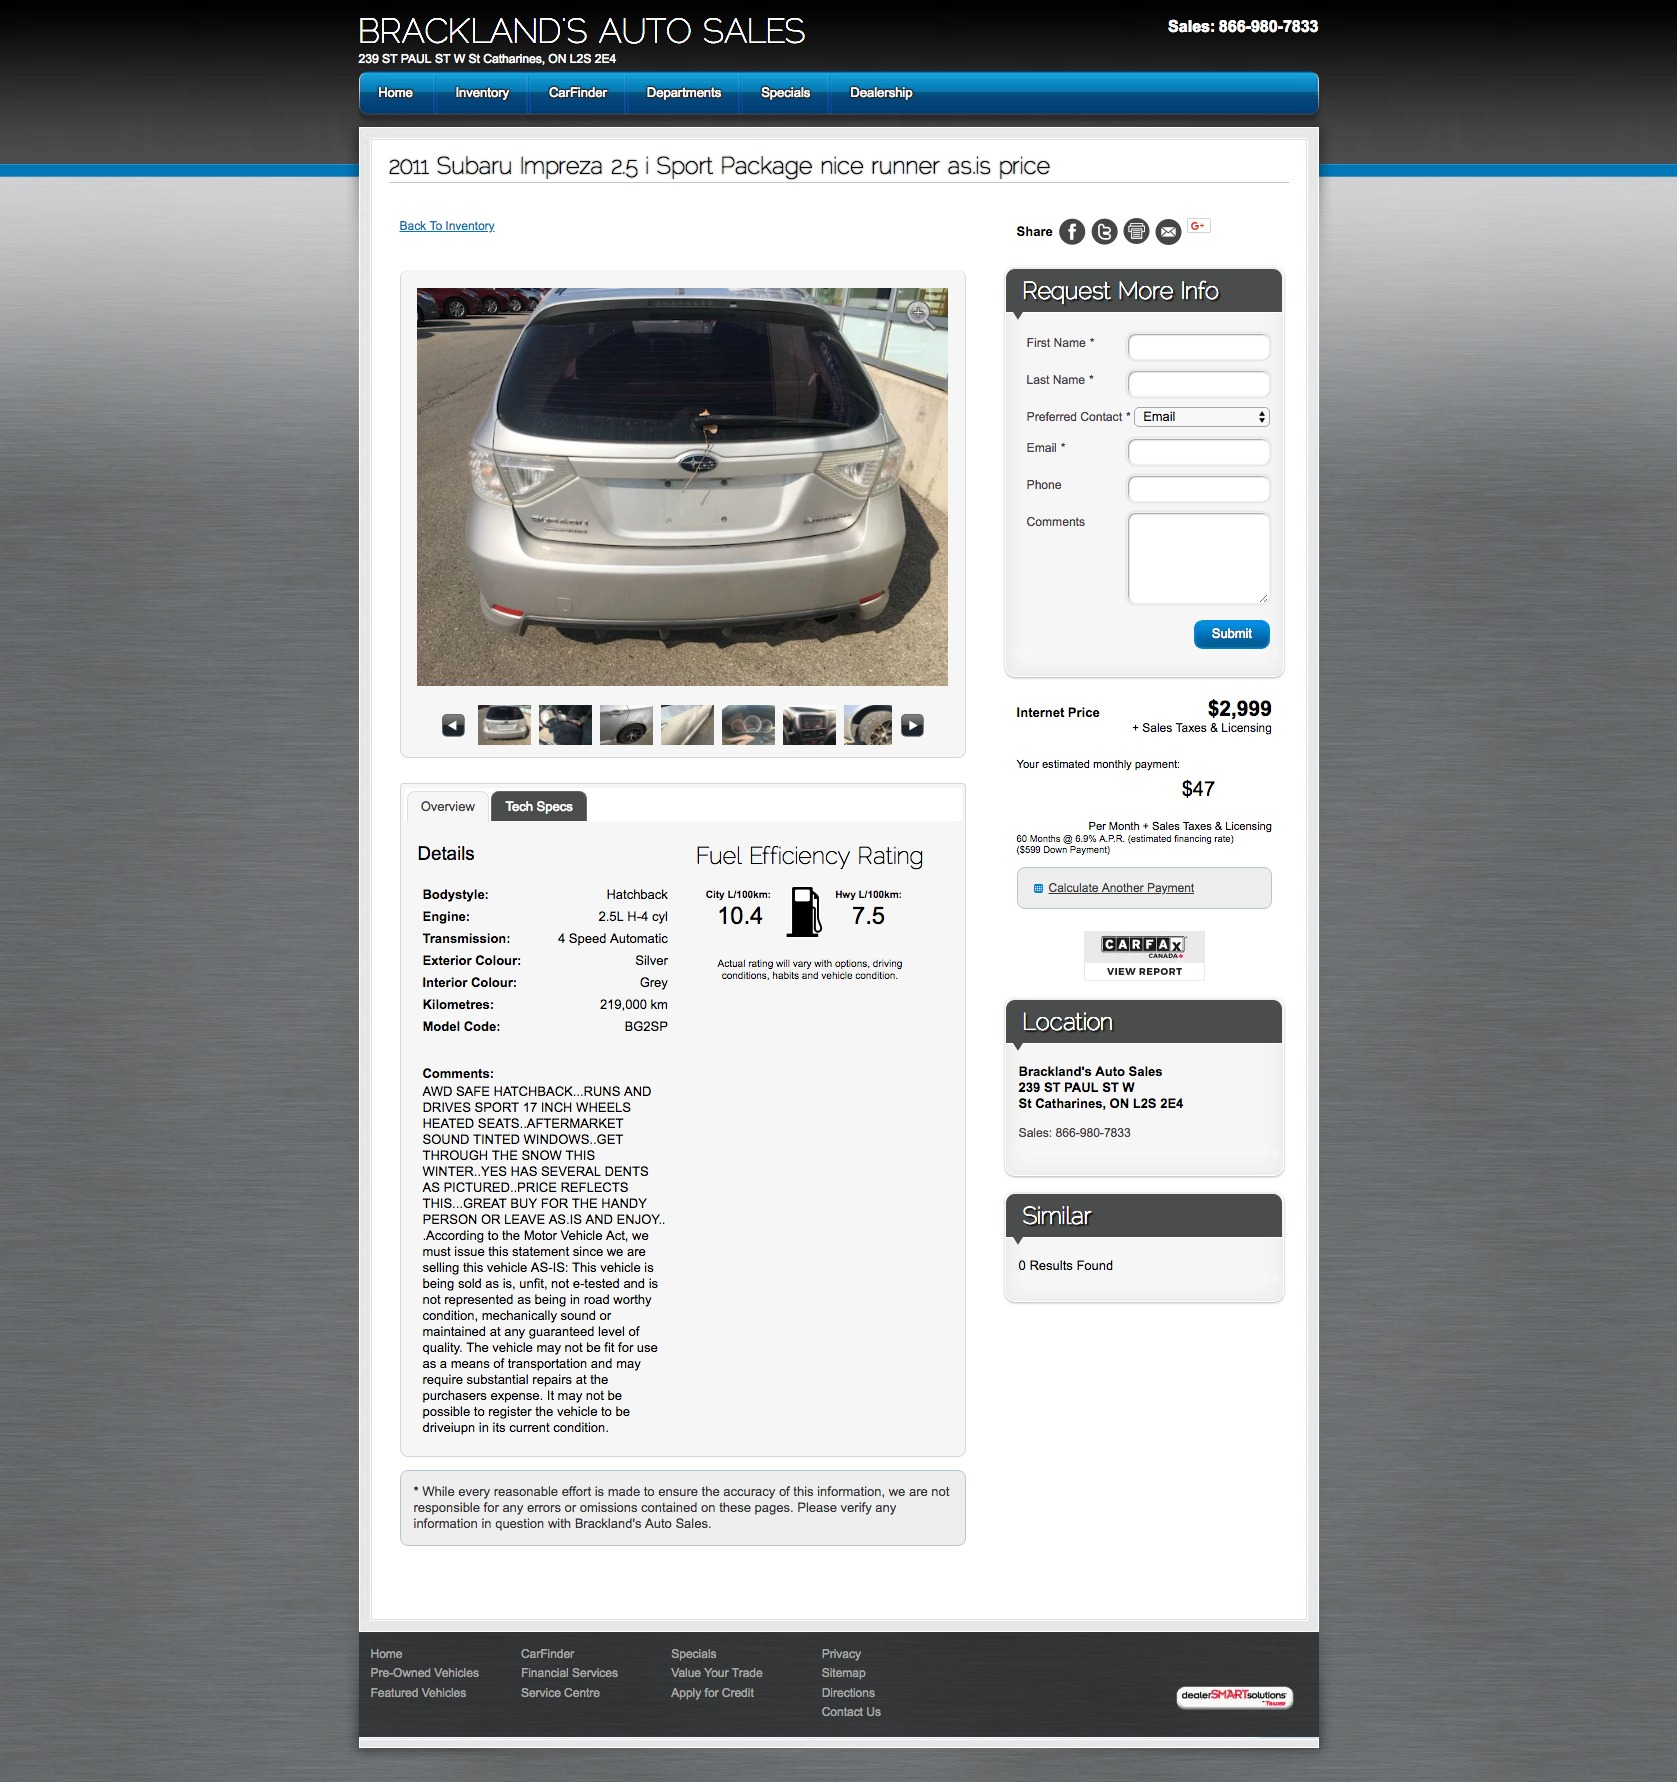car: (900, 714, 925, 739)
